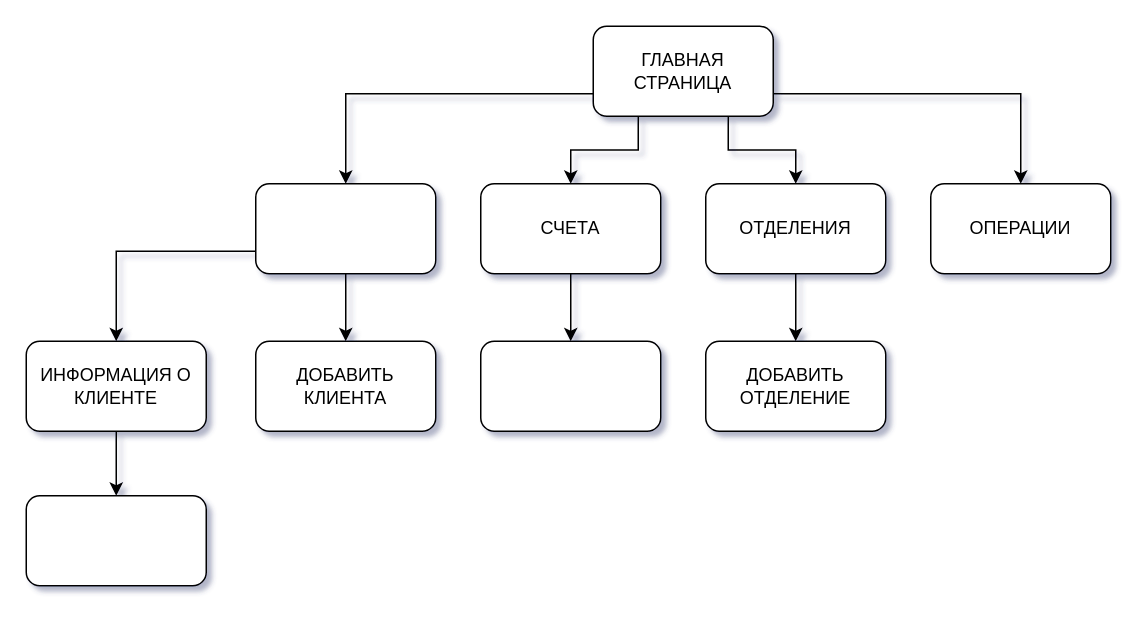
Image size: 1146x621. Some labels were removed from this diagram. The box of each missing label's shape, as (x1, y1, x2, y2) in pixels:
ДОБАВИТЬ СЧЕТ: (479, 340, 661, 431)
КЛИЕНТЫ: (254, 182, 436, 274)
РЕДАКТИРОВАТЬ ИНФОРМАЦИЮ: (25, 494, 206, 586)
